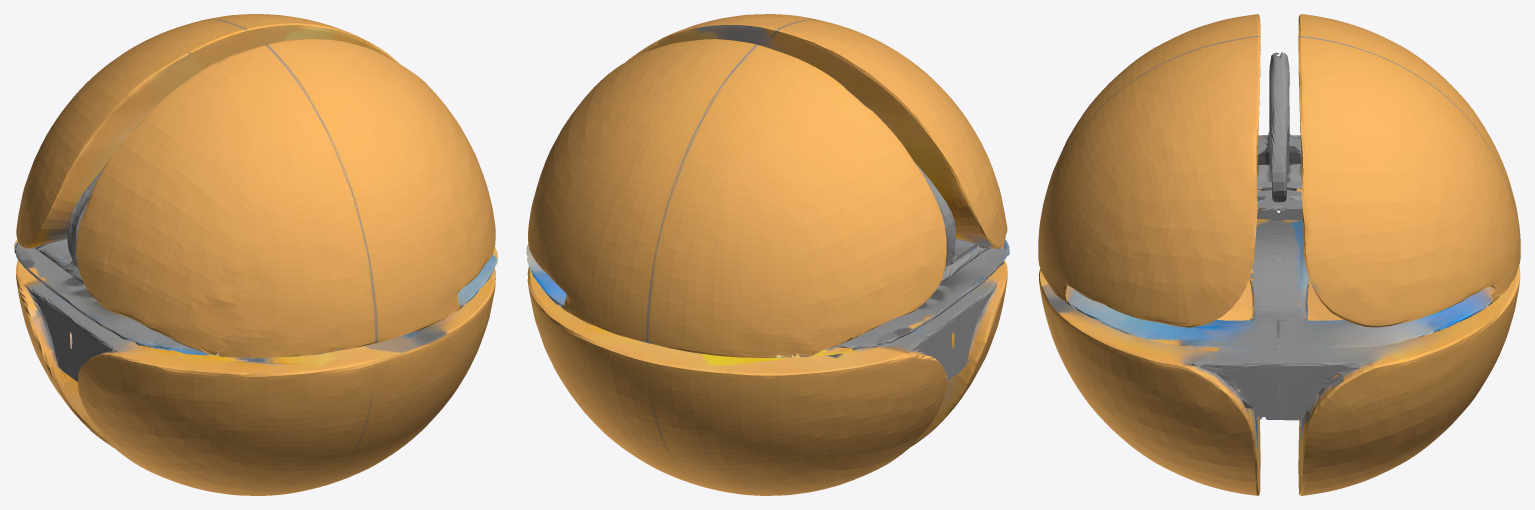
3 views of the same model, side by side, from view 1: azimuth 30°, elevation 25°; view 2: azimuth 150°, elevation 25°; view 3: azimuth 270°, elevation 25° (orthographic).
Parts seen in each view (by area): view 1: tripo_node_256a58c7-3acb-4ce9-94a5-60c4a7042298; view 2: tripo_node_256a58c7-3acb-4ce9-94a5-60c4a7042298; view 3: tripo_node_256a58c7-3acb-4ce9-94a5-60c4a7042298.
Part boxes in pixels (box(x1,y1,x2,y2)): tripo_node_256a58c7-3acb-4ce9-94a5-60c4a7042298: box(14, 14, 497, 495); tripo_node_256a58c7-3acb-4ce9-94a5-60c4a7042298: box(526, 14, 1009, 495); tripo_node_256a58c7-3acb-4ce9-94a5-60c4a7042298: box(1038, 14, 1520, 495).
Bounding box in the file's own units: 0.9555 × 0.9991 × 0.9999.
1 material, 1 textured.
